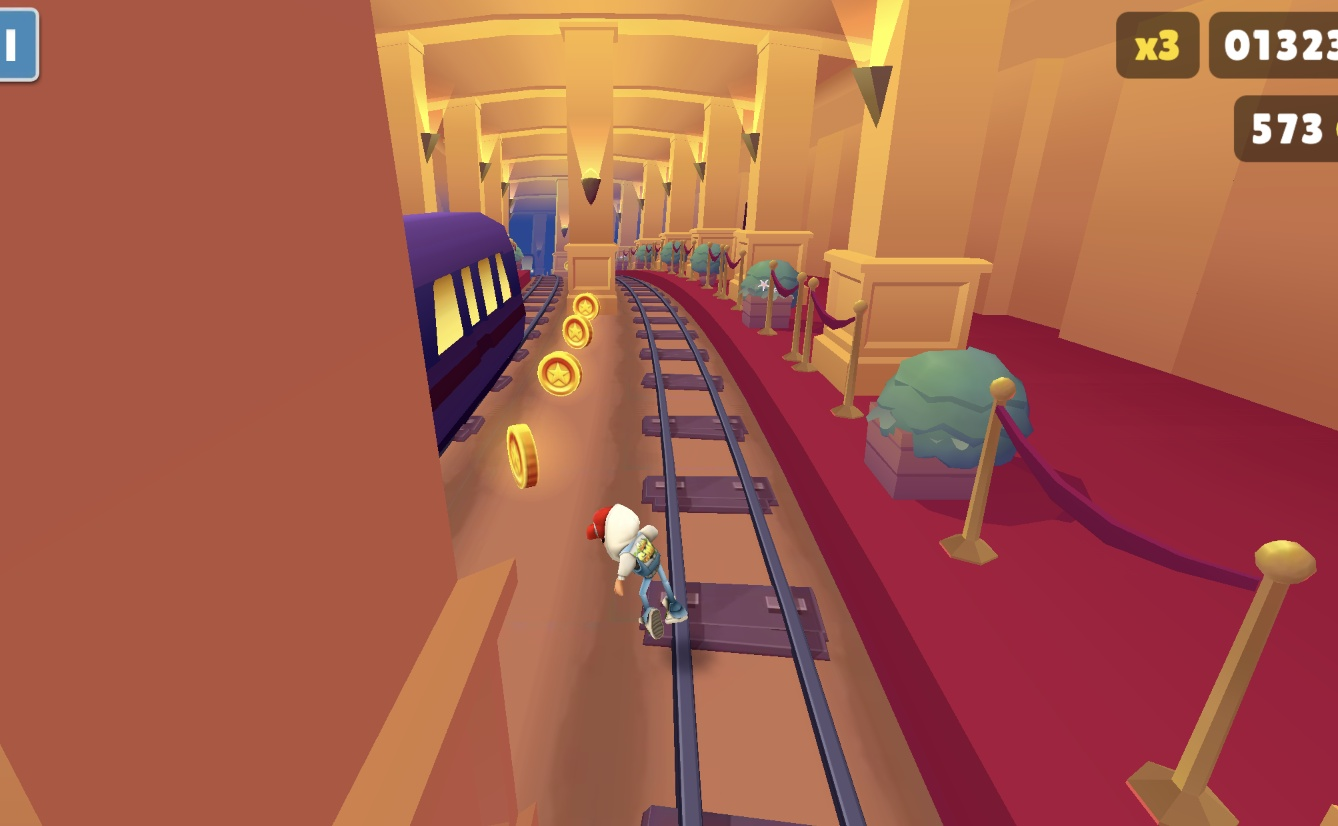pillar: (0, 0, 517, 826), (564, 50, 622, 319)
train: (402, 207, 527, 464)
